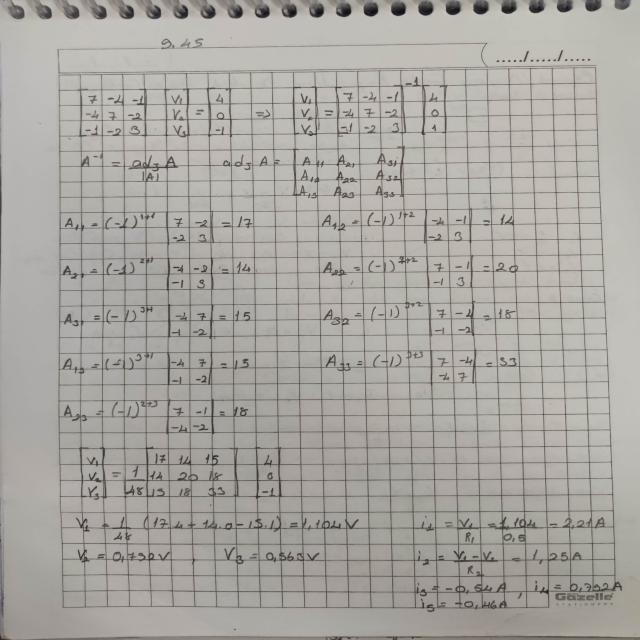math: (75, 442, 290, 502), (289, 77, 449, 139), (76, 84, 235, 140), (56, 252, 264, 293), (320, 346, 520, 388), (77, 512, 364, 541), (322, 297, 518, 337), (320, 251, 525, 289), (61, 395, 253, 435), (58, 350, 258, 388), (409, 509, 613, 546), (406, 578, 628, 612), (316, 207, 518, 243), (289, 142, 408, 202), (63, 304, 258, 340), (63, 210, 258, 244), (70, 544, 327, 568), (411, 546, 589, 578), (79, 150, 183, 182), (218, 152, 274, 172), (349, 127, 349, 129)
